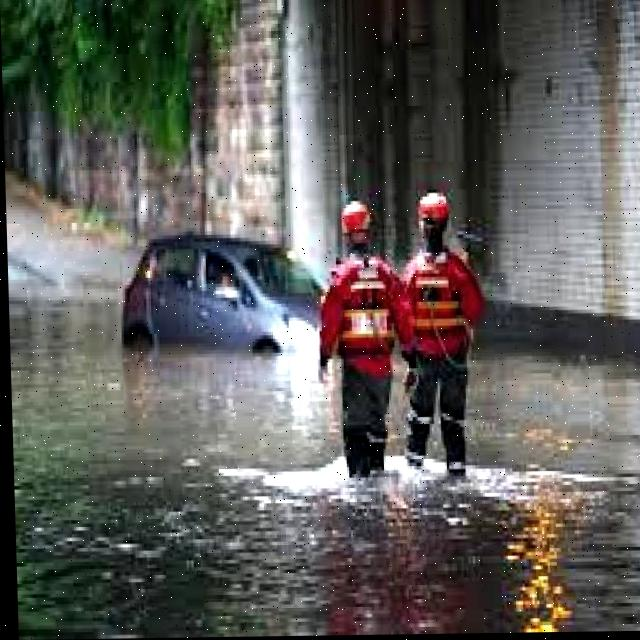rescuer: (313, 197, 412, 480), (400, 189, 490, 495)
